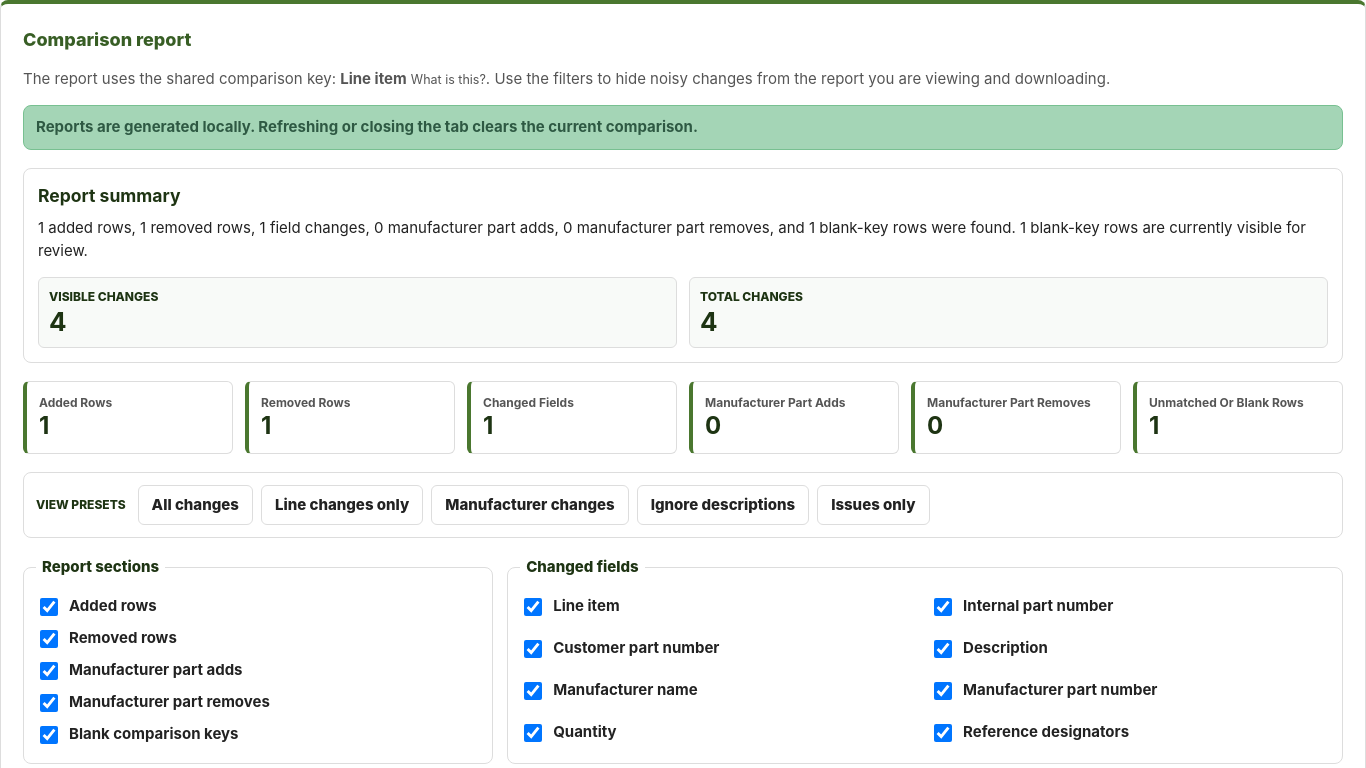
Scenario: ReportStep › shows an executive summary, visible-versus-total counts, filter presets, and filtered export copy
Expected: the heading "Report summary" is shown, [38,185,180,206]
Expected: the text "Visible changes" is shown, [49,289,158,304]
Click the button "Ignore descriptions" at [723, 505], box [637,485,809,525]
(page scrolled)
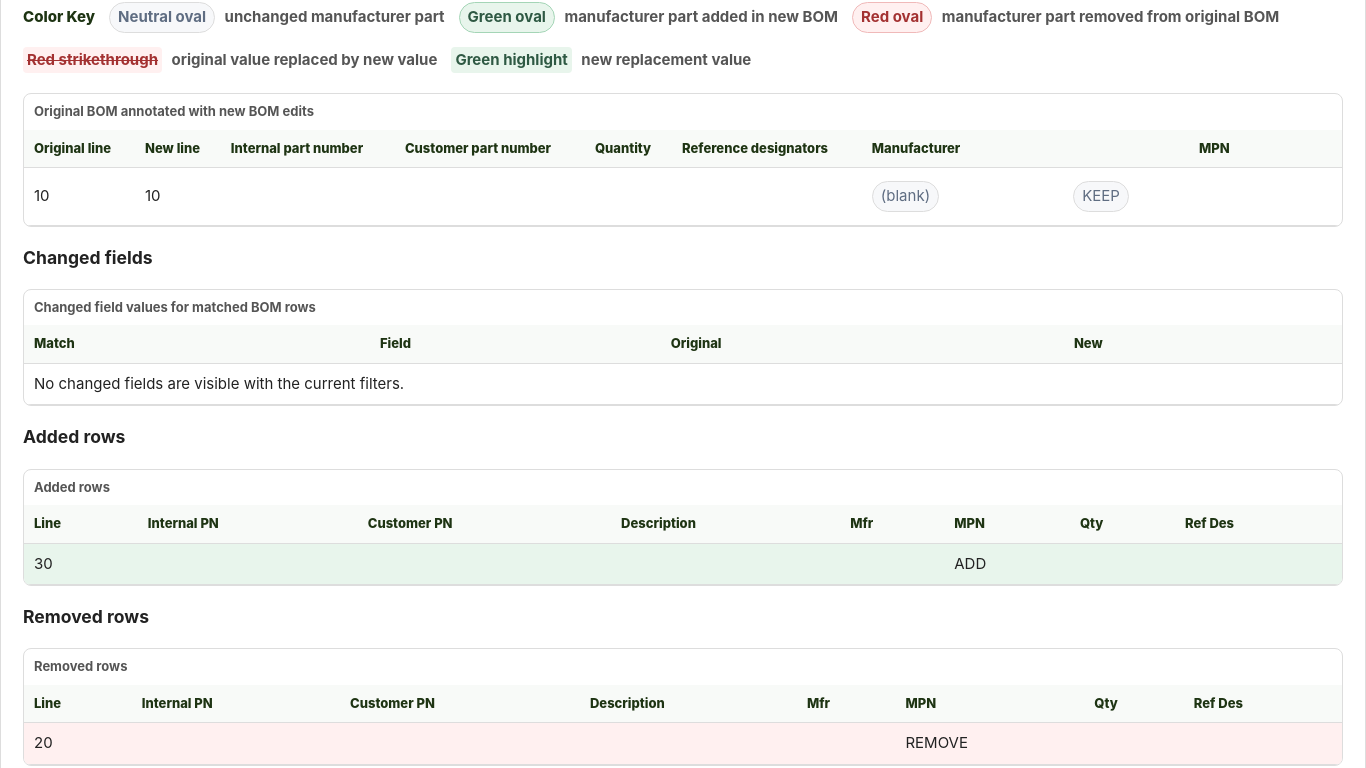
Now the text "No changed fields are visible with the current filters." is shown, box [24,363,1342,405]
